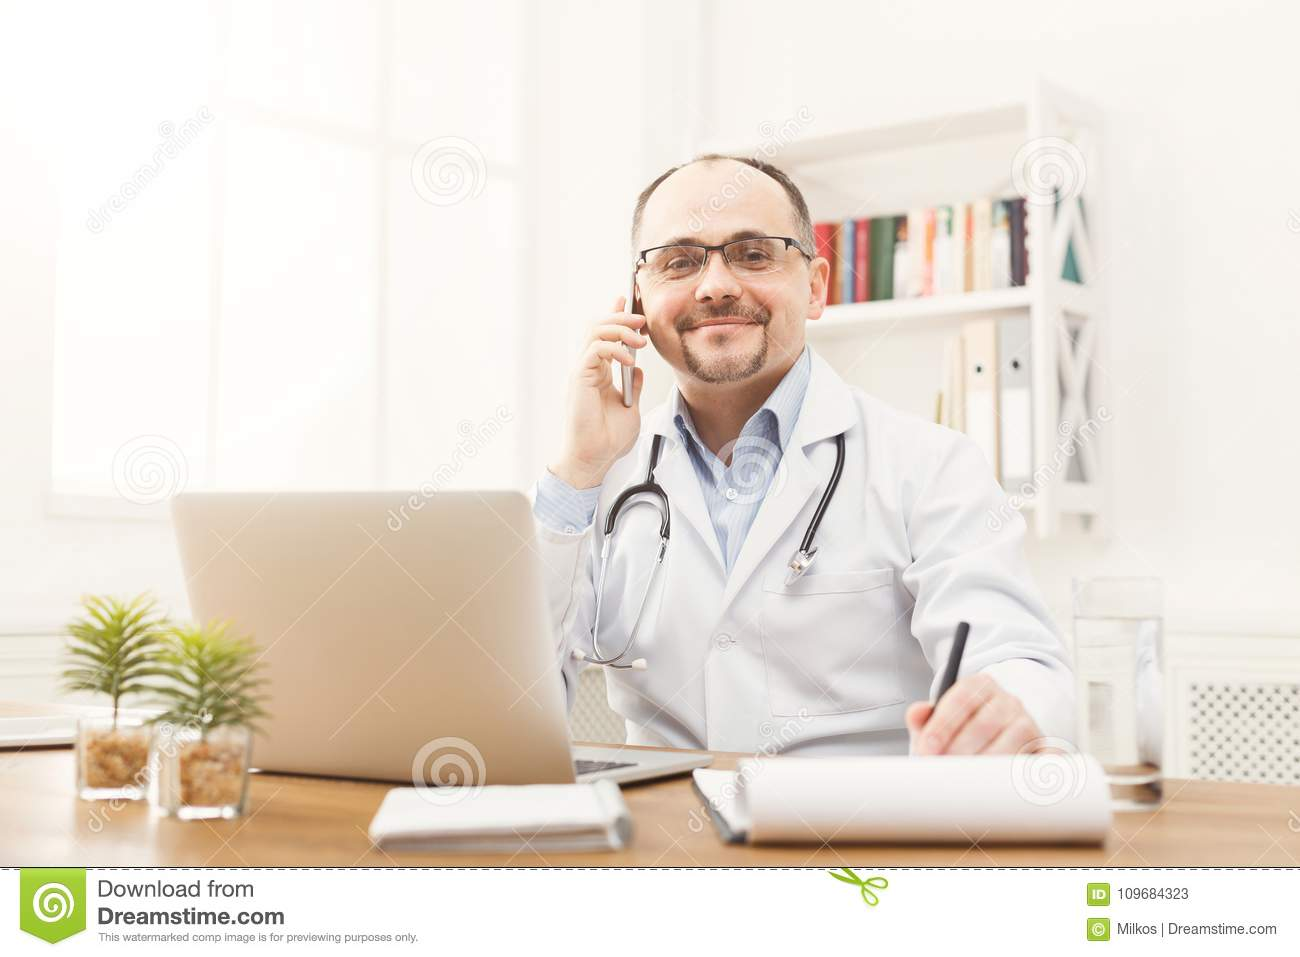phone: (619, 255, 642, 410)
talk: (569, 218, 787, 484)
